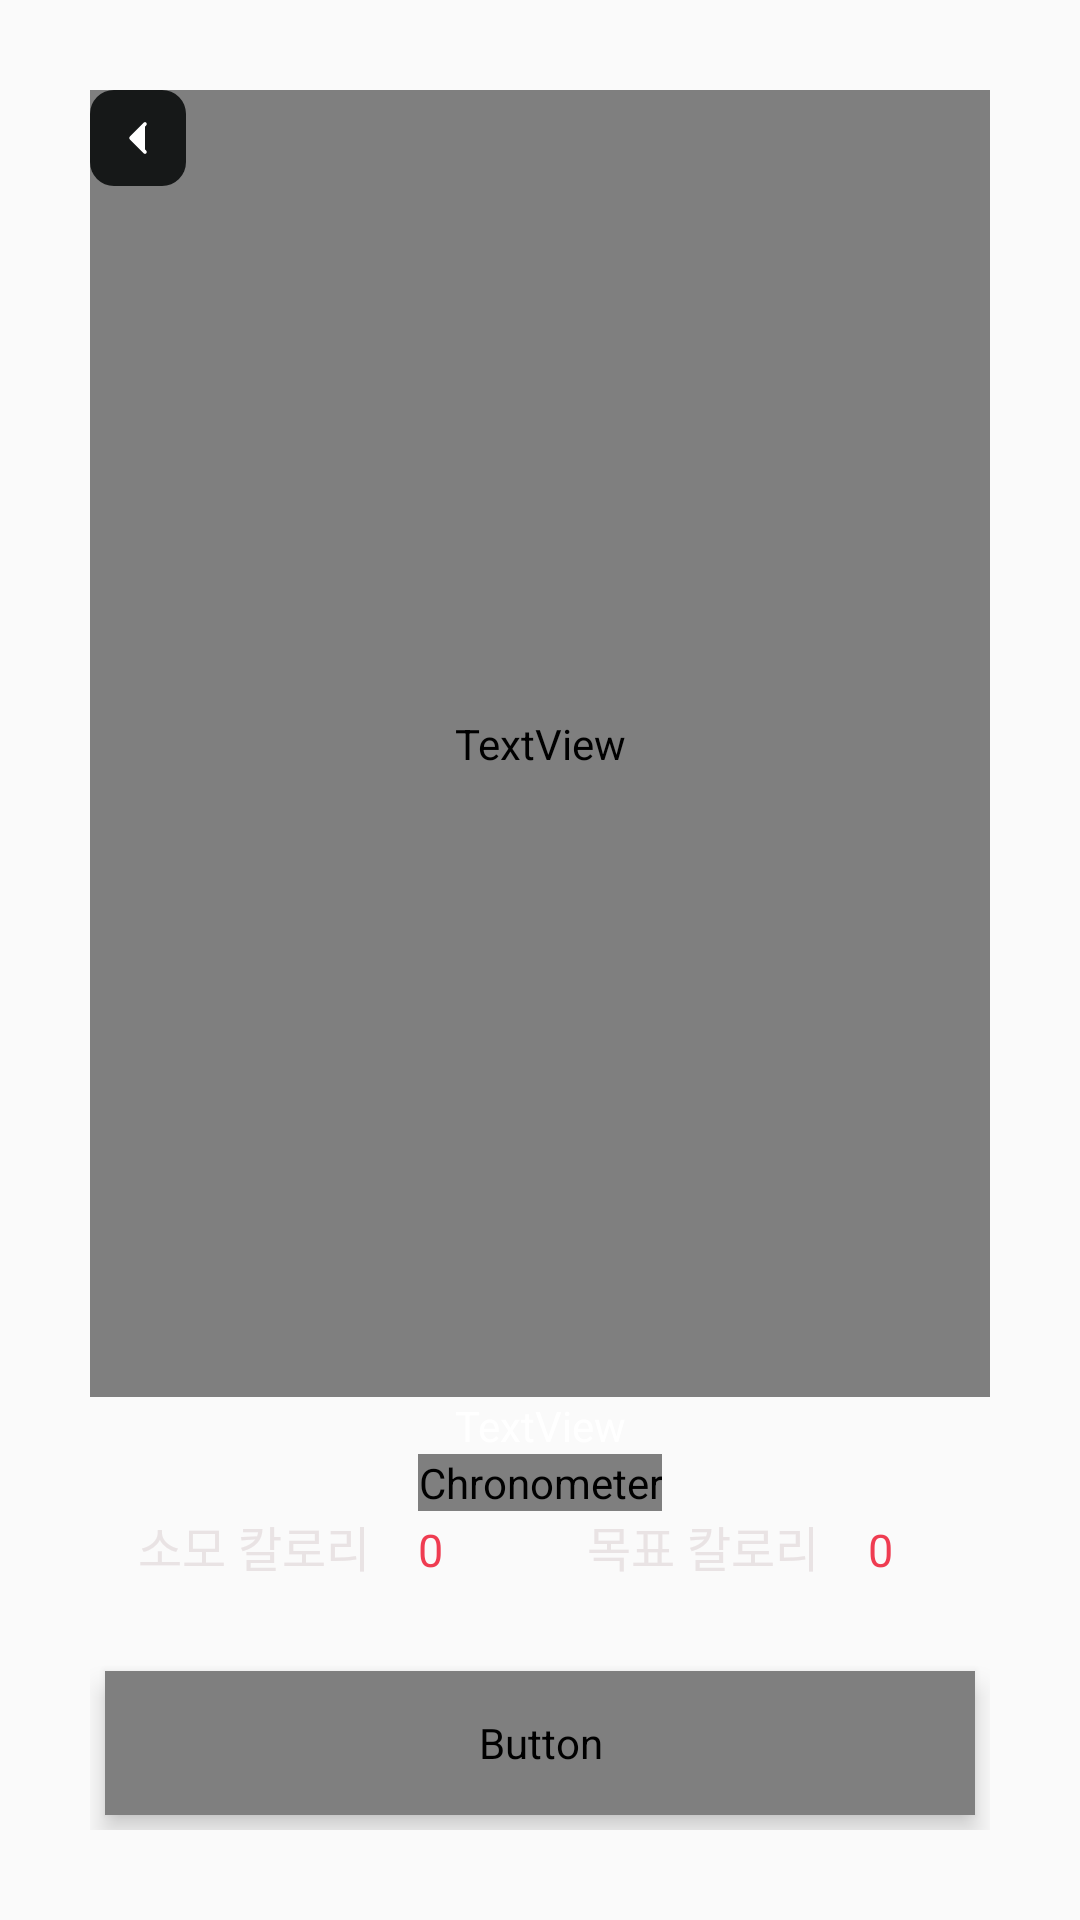

Where to tap for icons on this 1080x1920 app screen, as point (x, y):
뒤로가기: point (138, 138)
